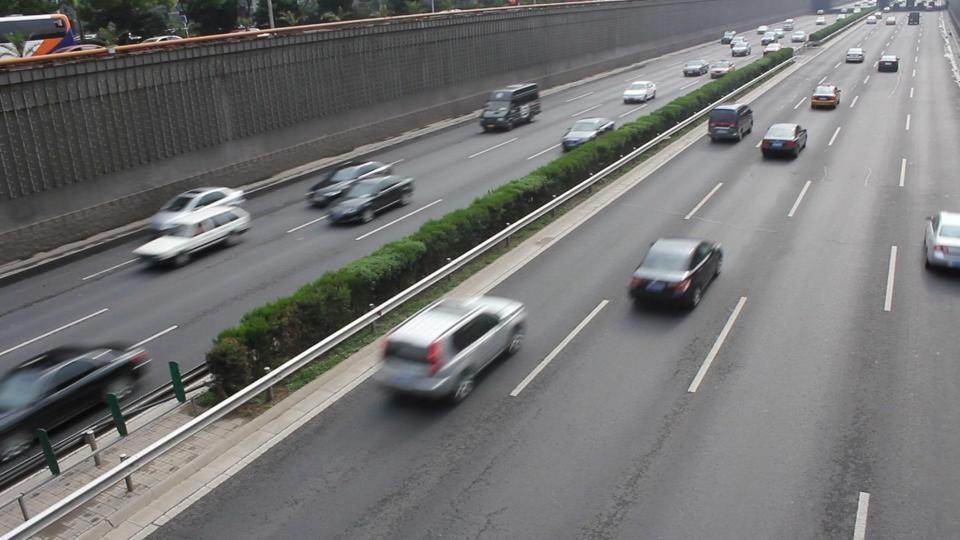car: (377, 295, 529, 406), (0, 344, 153, 437), (137, 187, 252, 268), (628, 237, 724, 311), (327, 174, 414, 227), (303, 160, 382, 208), (922, 210, 960, 271), (560, 117, 615, 153), (758, 122, 809, 160), (706, 103, 754, 143), (810, 82, 842, 110), (622, 79, 657, 104), (876, 52, 900, 73), (683, 59, 709, 76), (845, 47, 864, 63)
